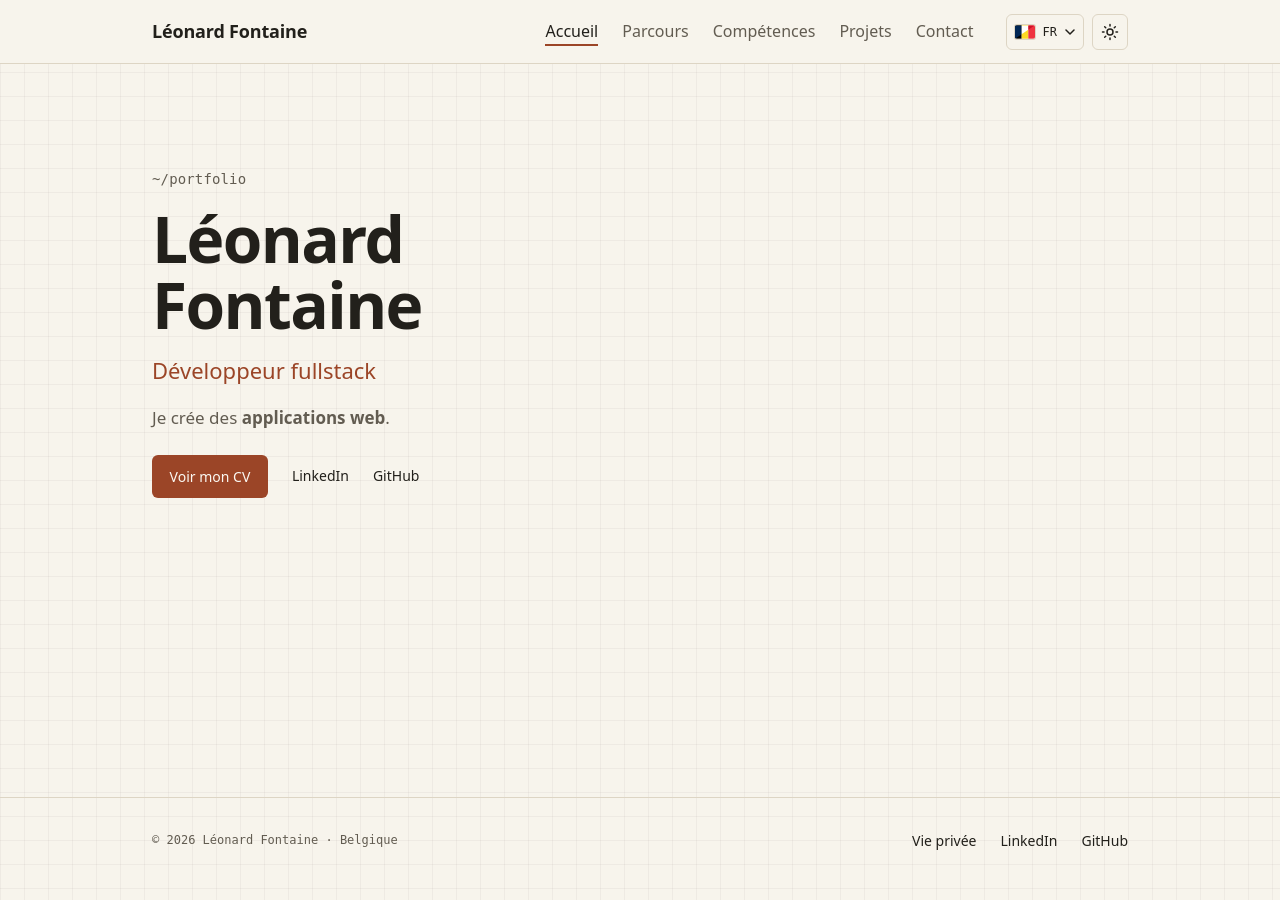
Test: home page › refetches in the other language after switching
expect the text "Développeur fullstack" is shown: met, box [152,355,376,385]
Step 1. Click the button with aria-label "Langue : Français" → x=1045, y=32, box [1006,14,1084,50]
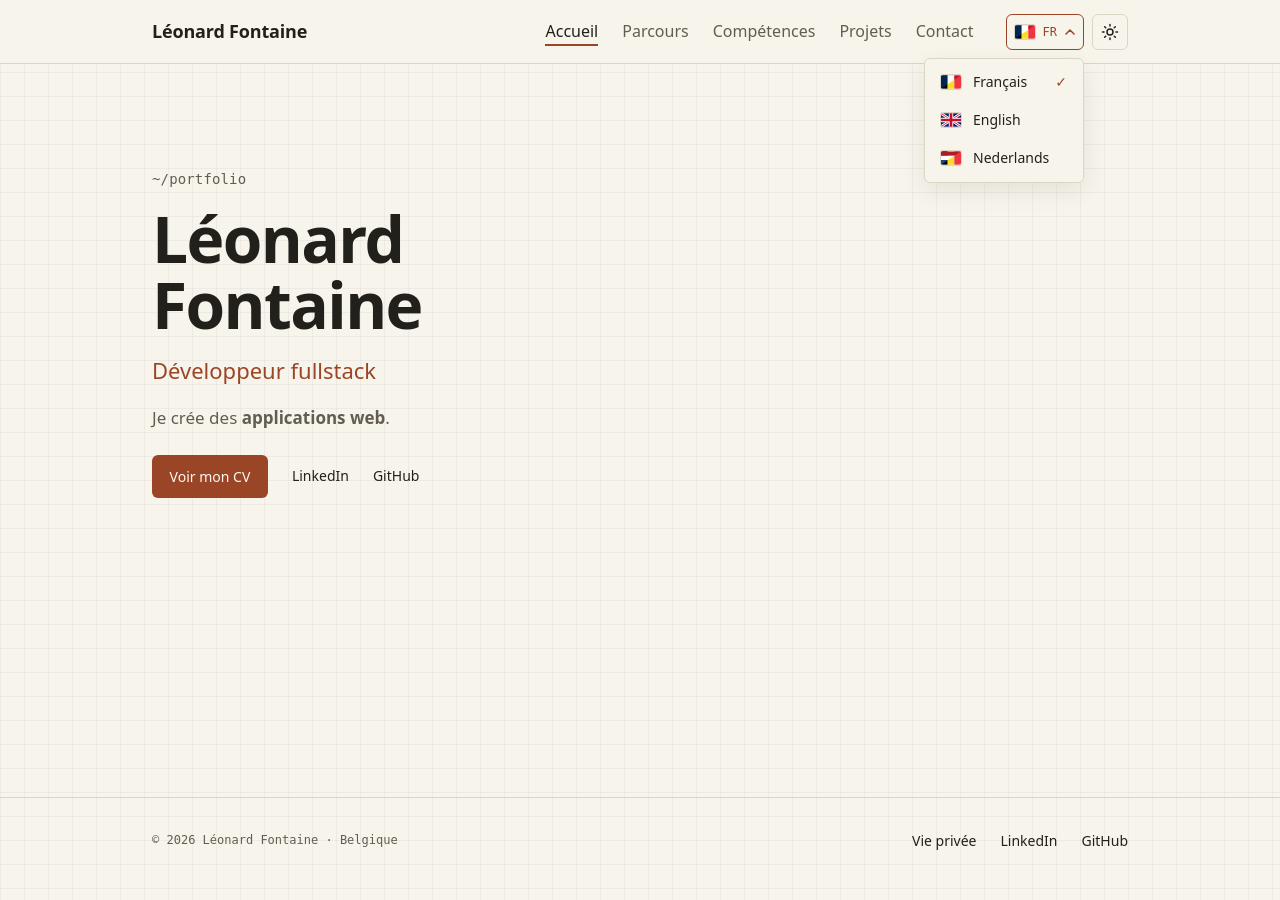
Step 2. Click the link "English" → x=981, y=119, box [941,110,1021,129]
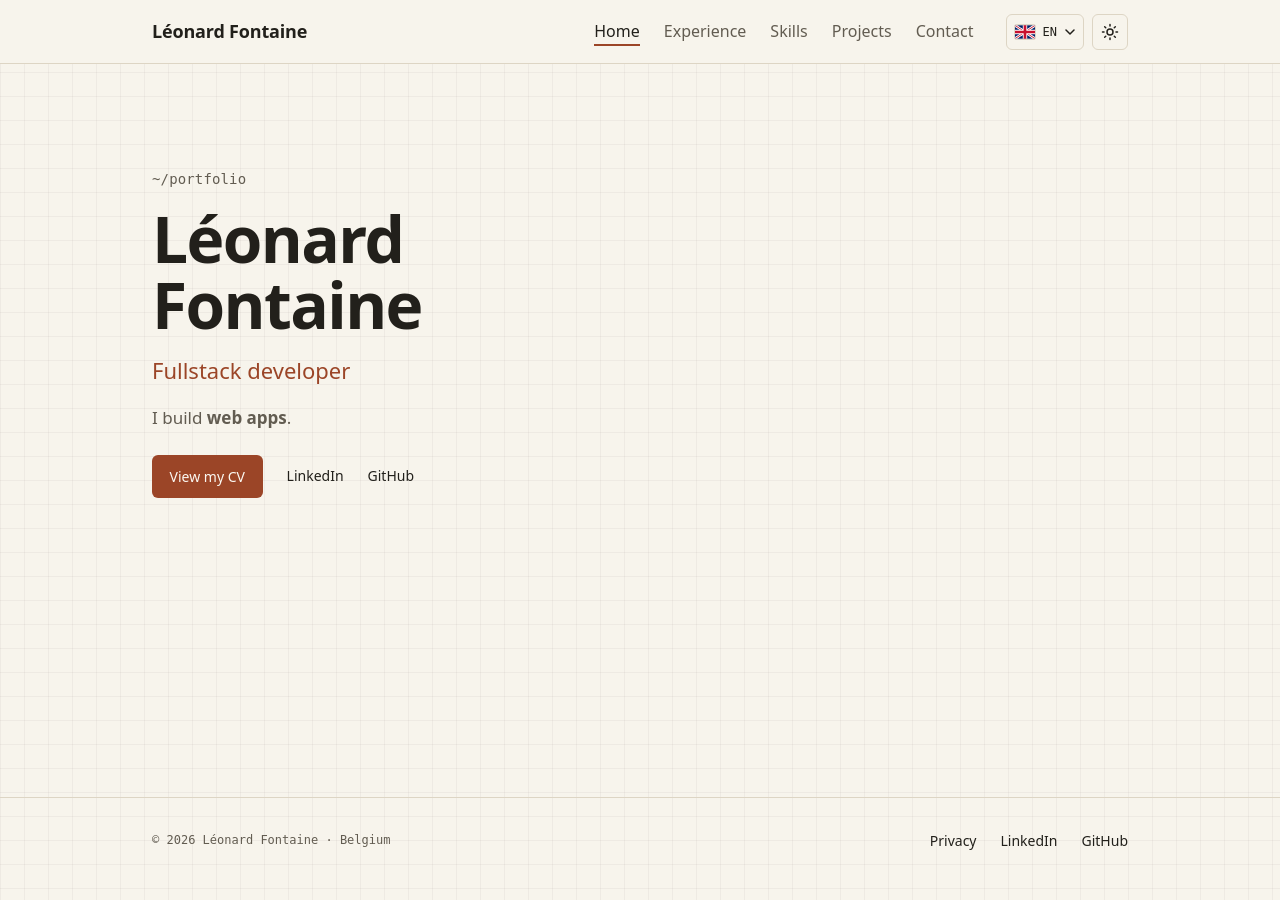
expect the text "Fullstack developer" is shown: met, box [152,355,350,385]
